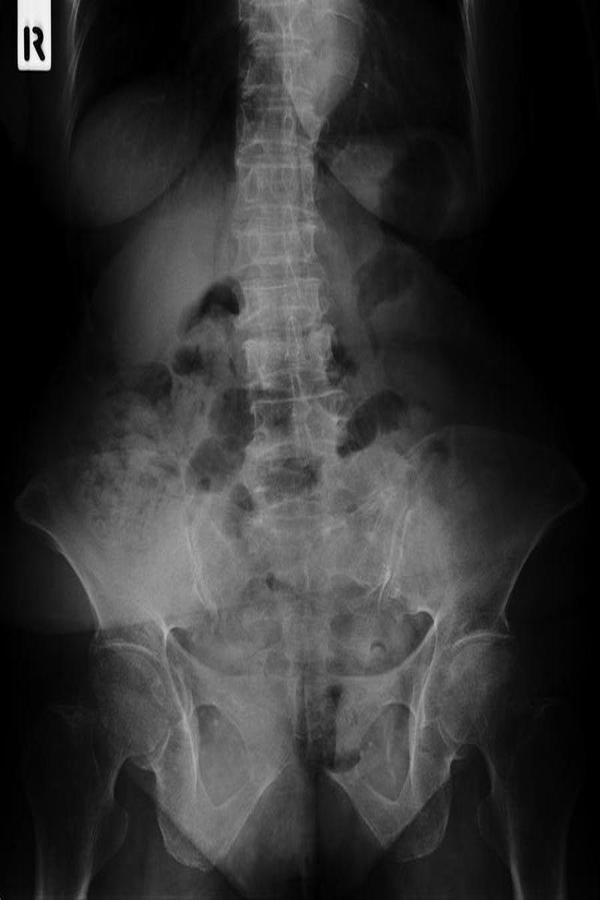lumbar scoliosis: (225, 7, 356, 560)
